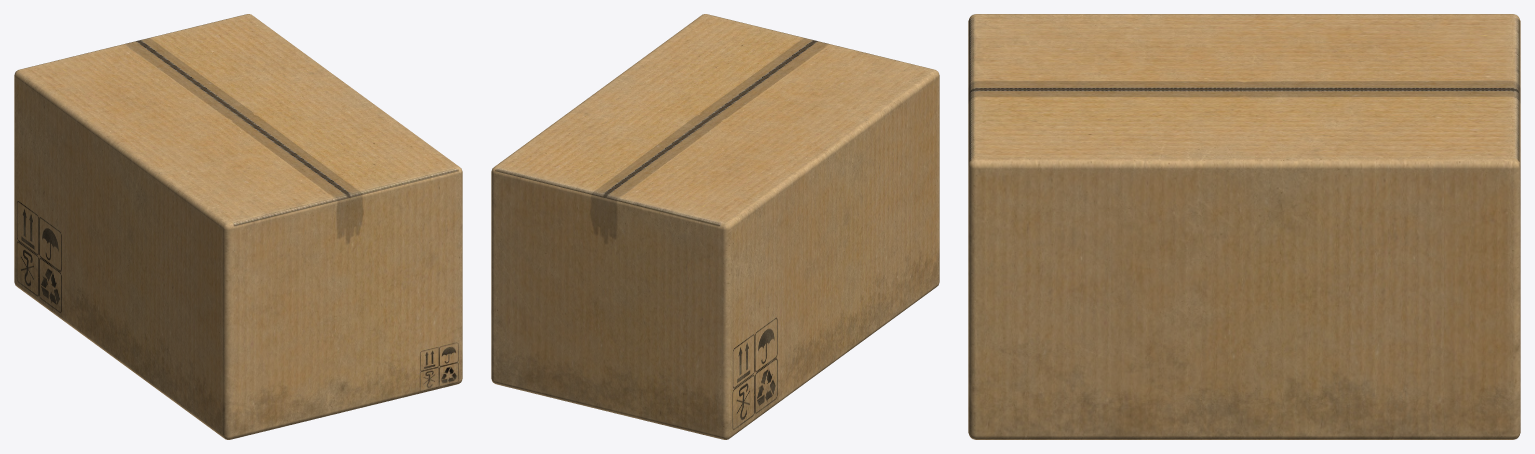
Rendered from cardboard-box.glb.
The picture shows the model from 3 angles, left to right: view 1: azimuth 30°, elevation 25°; view 2: azimuth 150°, elevation 25°; view 3: azimuth 270°, elevation 25°; orthographic projection. The views are drawn at different scales.
Visible parts, largest first — view 1: Cardboard_box; view 2: Cardboard_box; view 3: Cardboard_box.
Part boxes in pixels (left/top/right/bottom): Cardboard_box: left=14, top=14, right=462, bottom=439; Cardboard_box: left=491, top=14, right=939, bottom=439; Cardboard_box: left=968, top=14, right=1520, bottom=439.
Size of the model in its own units: 3.87 by 3.36 by 6.
1 material, 1 textured.
